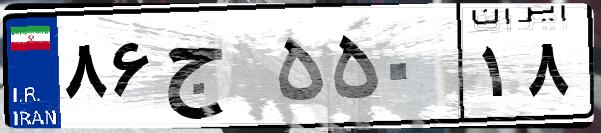0: (385, 28, 445, 110)
1: (475, 38, 525, 113)
5: (270, 28, 330, 110), (330, 28, 385, 110)
6: (110, 28, 158, 98)
8: (57, 26, 110, 100), (525, 38, 570, 115)
ج: (158, 20, 270, 120)
